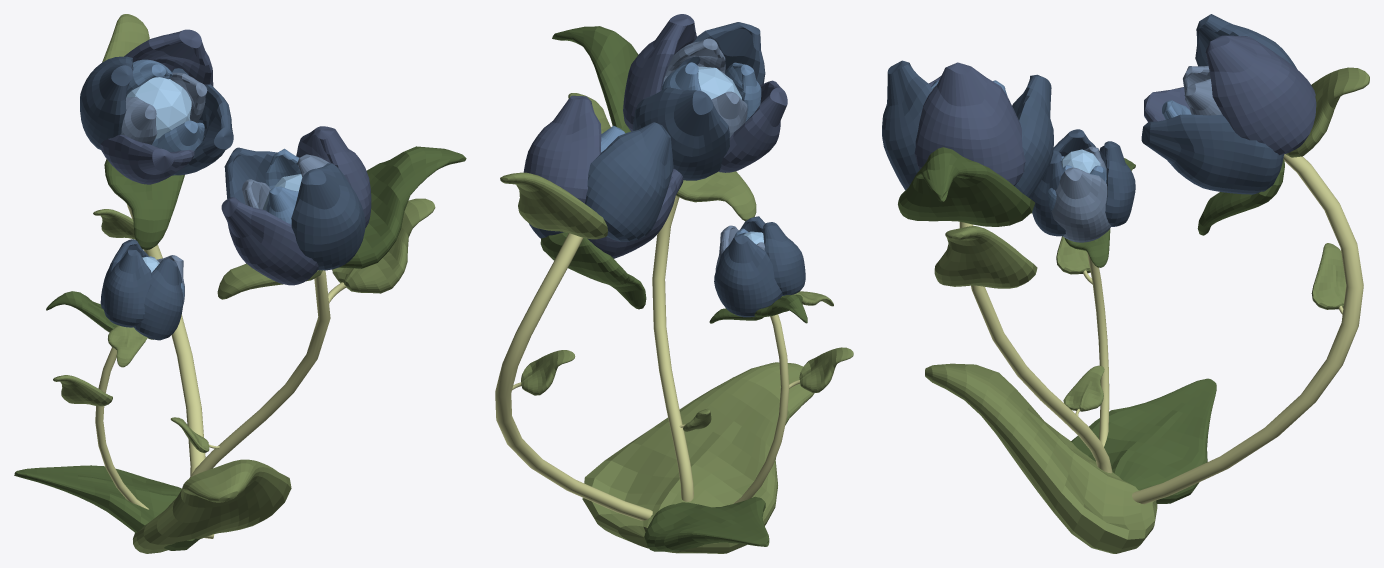
File: moonflower2.fbx
3 views of the same model, side by side, from view 1: azimuth 30°, elevation 25°; view 2: azimuth 150°, elevation 25°; view 3: azimuth 270°, elevation 25° (orthographic). The views are drawn at different scales.
Parts seen in each view (by area): view 1: Sphere.031, Sphere.010, Sphere.018, Sphere.032, Sphere.011, Sphere.003, Sphere.017, BézierCurve.001, Sphere.034, Sphere.002, Sphere.023, Sphere.022 (+20 smaller); view 2: Sphere.031, Sphere.003, BézierCurve, Sphere.008, Sphere.032, Sphere, Sphere.020, BézierCurve.001, Sphere.016, Sphere.018, Sphere.009, Sphere.011 (+14 smaller); view 3: Sphere.031, Sphere.032, Sphere, Sphere.009, BézierCurve, Sphere.001, Sphere.018, Sphere.034, Sphere.010, Sphere.008, Sphere.021, BézierCurve.001 (+14 smaller).
Boxes of the visible parts, x1=… form: Sphere.031: x1=133, y1=459, x2=291, y2=553; Sphere.010: x1=291, y1=163, x2=365, y2=270; Sphere.018: x1=339, y1=146, x2=466, y2=268; Sphere.032: x1=14, y1=465, x2=200, y2=550; Sphere.011: x1=221, y1=197, x2=318, y2=285; Sphere.003: x1=80, y1=56, x2=133, y2=149; Sphere.017: x1=104, y1=159, x2=184, y2=249; BézierCurve.001: x1=189, y1=270, x2=330, y2=478; Sphere.034: x1=332, y1=198, x2=435, y2=293; Sphere.002: x1=100, y1=122, x2=198, y2=184; Sphere.023: x1=102, y1=249, x2=151, y2=327; Sphere.022: x1=134, y1=258, x2=183, y2=340; Sphere.031: x1=582, y1=362, x2=814, y2=553; Sphere.003: x1=585, y1=122, x2=673, y2=241; BézierCurve: x1=495, y1=233, x2=652, y2=520; Sphere.008: x1=633, y1=87, x2=729, y2=180; Sphere.032: x1=644, y1=496, x2=769, y2=551; Sphere: x1=523, y1=95, x2=601, y2=203; Sphere.020: x1=714, y1=234, x2=782, y2=317; BézierCurve.001: x1=652, y1=196, x2=693, y2=501; Sphere.016: x1=500, y1=172, x2=607, y2=239; Sphere.018: x1=552, y1=26, x2=638, y2=133; Sphere.009: x1=623, y1=14, x2=696, y2=131; Sphere.011: x1=718, y1=80, x2=787, y2=172; Sphere.031: x1=925, y1=363, x2=1157, y2=553; Sphere.032: x1=1071, y1=378, x2=1216, y2=503; Sphere: x1=1205, y1=35, x2=1316, y2=155; Sphere.009: x1=914, y1=62, x2=1025, y2=185; BézierCurve: x1=1132, y1=154, x2=1363, y2=504; Sphere.001: x1=1141, y1=114, x2=1283, y2=194; Sphere.018: x1=898, y1=147, x2=1034, y2=226; Sphere.034: x1=934, y1=226, x2=1037, y2=288; Sphere.010: x1=882, y1=60, x2=932, y2=190; Sphere.008: x1=1012, y1=74, x2=1053, y2=198; Sphere.021: x1=1051, y1=167, x2=1111, y2=242; BézierCurve.001: x1=959, y1=221, x2=1112, y2=473.
Bounding box in the file's own units: 101 × 126 × 109.
